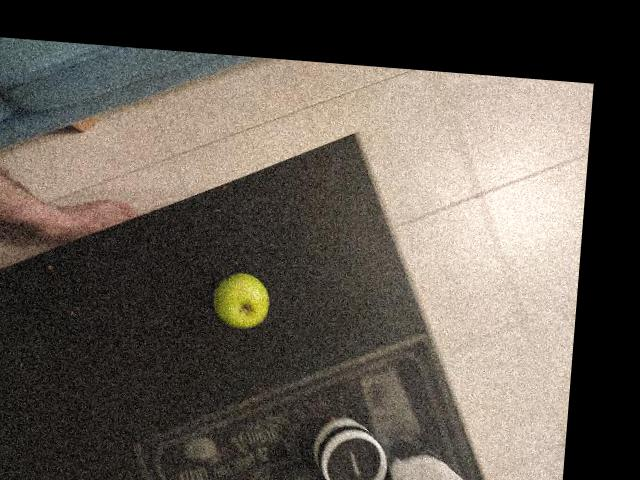apple: (288, 156, 378, 244)
